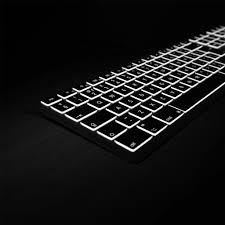keyboard: (2, 19, 221, 187)
